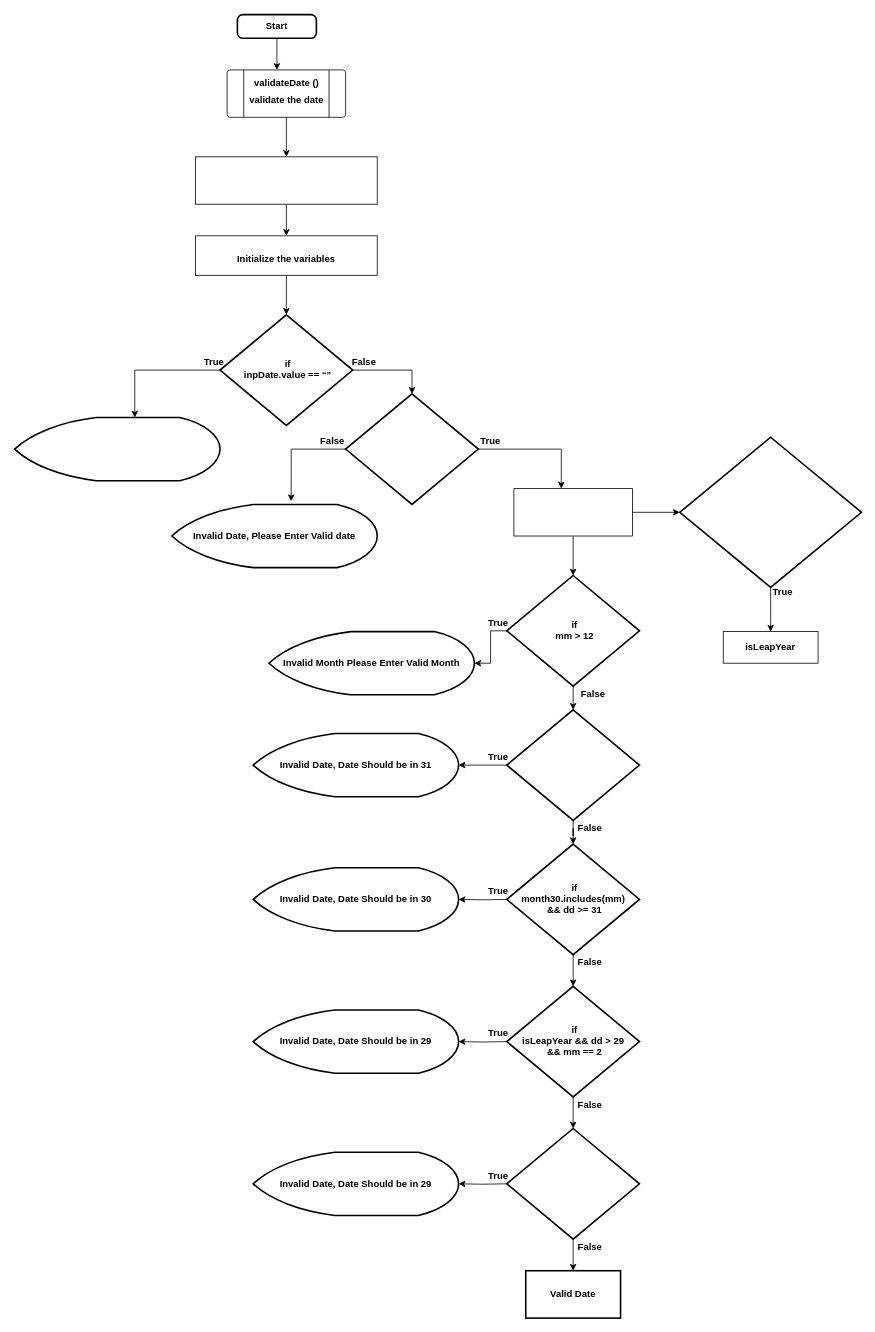
Image size: 875x1332. Some labels were removed from this diagram. The shapes that lost their labels are listed below. From the top down, each one's centre as x and y in pixels, then its label:
At [286,180]: "Declare Variable const inpDate, isLeapYear, results and some helper variables".
At [116,448]: "Please Enter Date".
At [411,449]: "if match Regex".
At [572,512]: "Split the date and store in seprate variable".
At [770,512]: "if tempYear %4 ==0 && tempYear %100 ==0 || tempYear %400 ==0".
At [573,765]: "if month31.includes(mm) && dd > 31".
At [573,1183]: "if !isLeapYear && dd > 28 && mm == 2".
